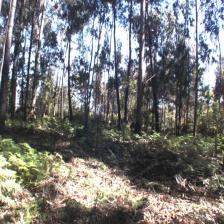trunktrack_idkeyframe: (134, 37, 144, 136), (26, 65, 39, 121), (114, 81, 123, 131), (9, 67, 16, 121), (152, 94, 160, 133), (67, 72, 73, 122), (193, 92, 198, 137), (124, 90, 129, 124)
